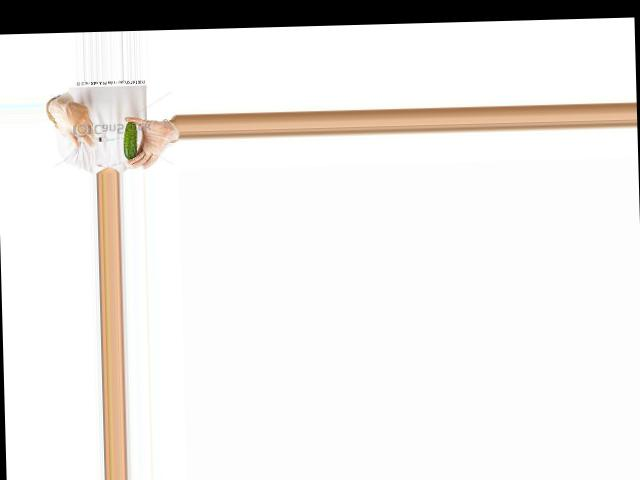cucumber: (124, 120, 138, 159)
